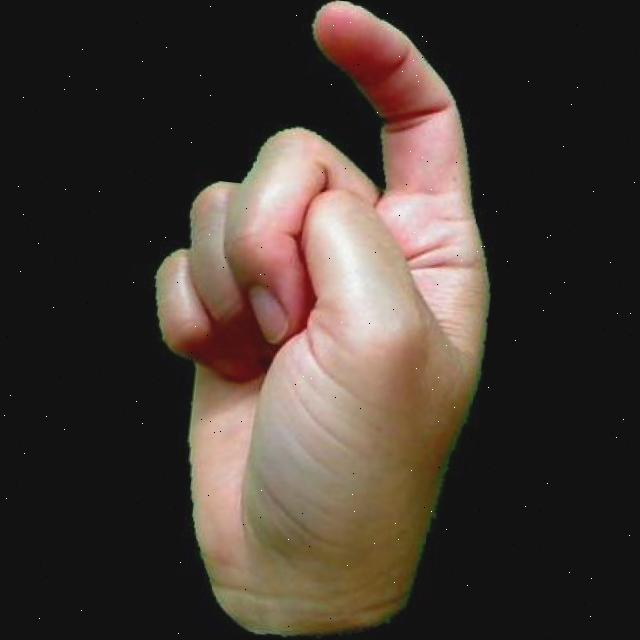x: (92, 0, 517, 640)
